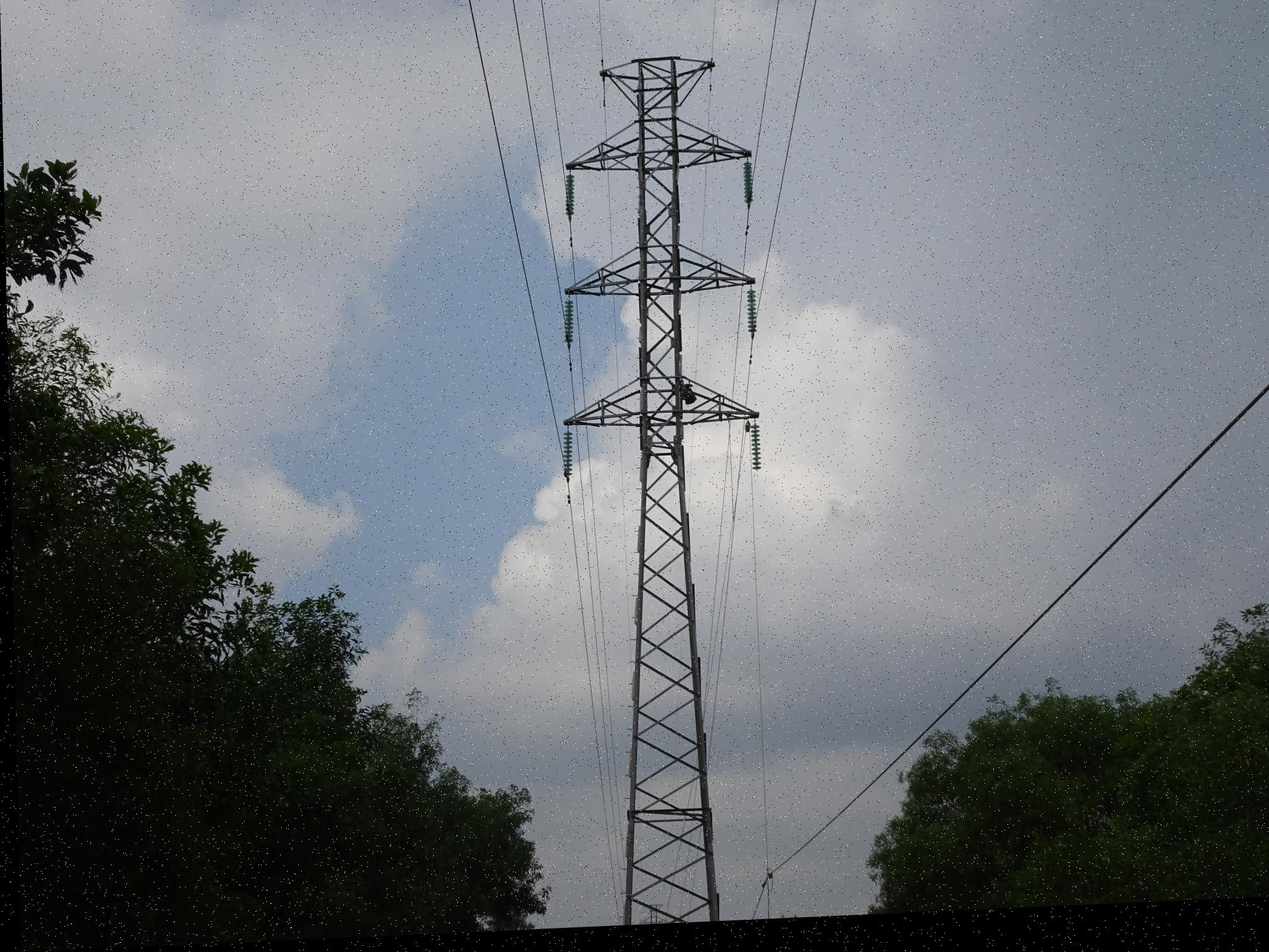tower: (545, 44, 784, 928)
